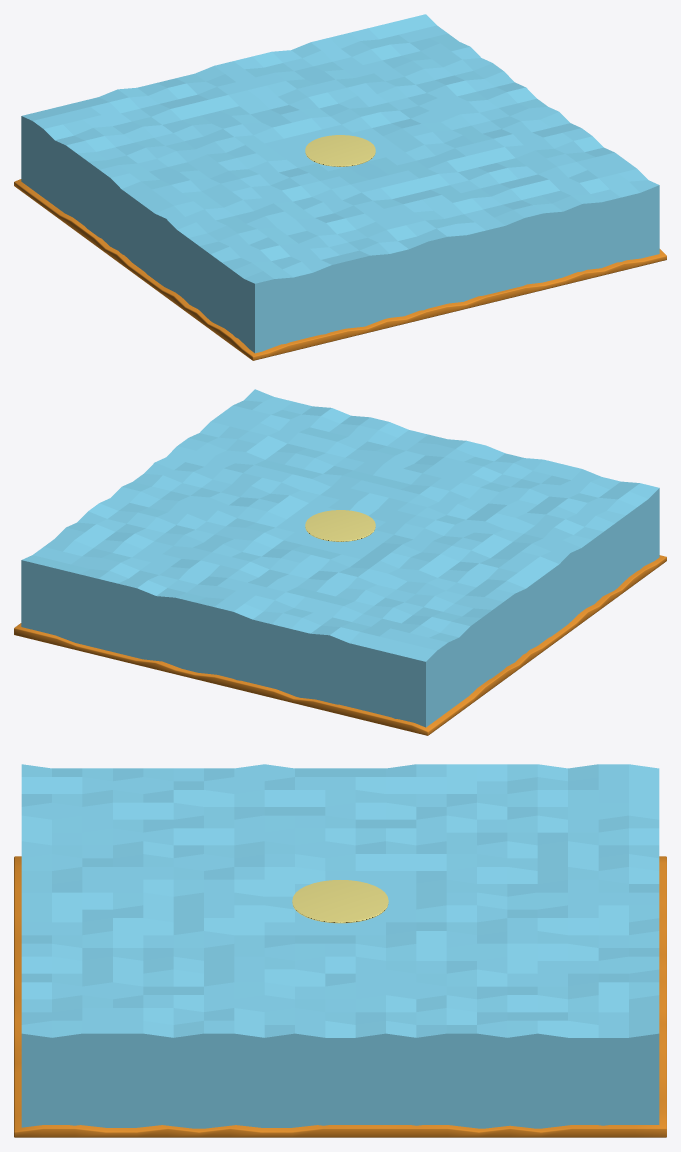
The model's file is landBlabla.gltf.
3 views of the same model, one above another, from view 1: azimuth 30°, elevation 25°; view 2: azimuth 150°, elevation 25°; view 3: azimuth 270°, elevation 25° (orthographic). The views are drawn at different scales.
Visible parts, largest first — view 1: Plane, Cube, Cylinder.001; view 2: Plane, Cube, Cylinder.001; view 3: Plane, Cube, Cylinder.001.
Part boxes in pixels (box(x1,y1,x2,y2)): Plane: box(21, 14, 659, 353); Cube: box(14, 179, 666, 360); Cylinder.001: box(305, 135, 375, 166); Plane: box(21, 389, 659, 727); Cube: box(14, 555, 666, 735); Cylinder.001: box(305, 510, 375, 541); Plane: box(21, 764, 659, 1128); Cube: box(14, 856, 666, 1137); Cylinder.001: box(292, 880, 388, 923).
Size of the model in its own units: 264 by 45.27 by 264.
